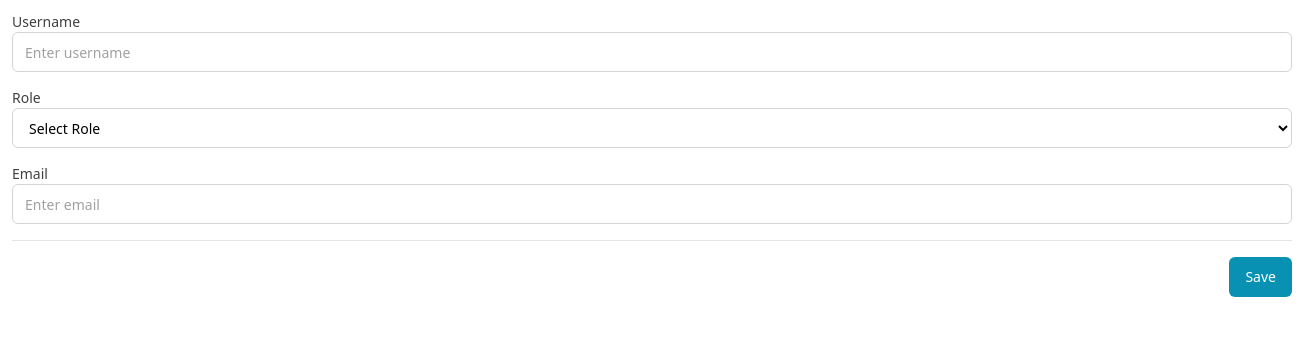
Test case: AdminCrudForm › clears a field error once the user types
Click the button "Save".
click(1261, 277)  # box [1229, 257, 1292, 297]
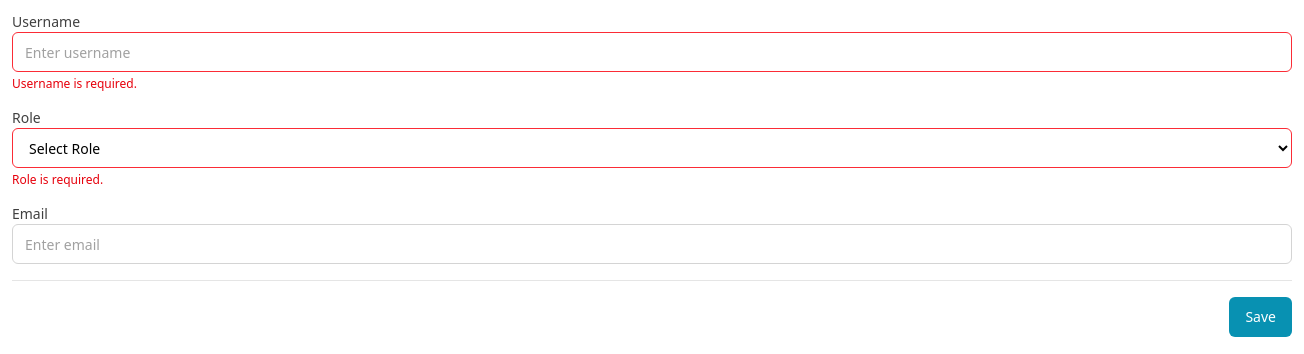
Result: the text "Username is required." is shown at [12, 75, 137, 92]
Type "nurse1" into the field labelled "Username".
click(652, 52); type("nurse1")  # box [12, 32, 1292, 72]
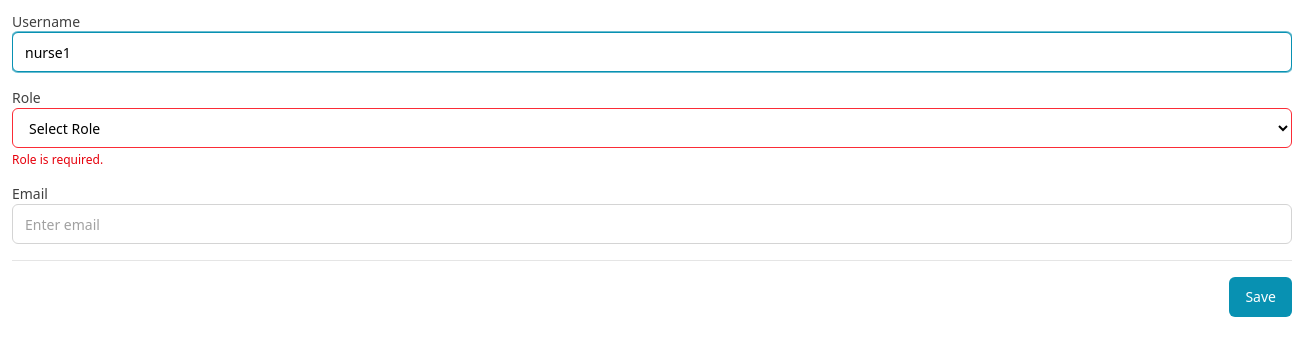
Result: the text "Username is required." is gone
